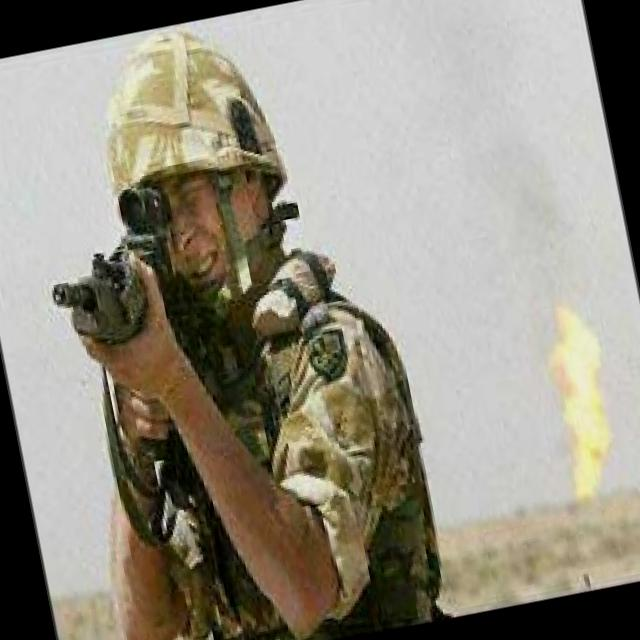long weapon: (36, 186, 224, 434)
